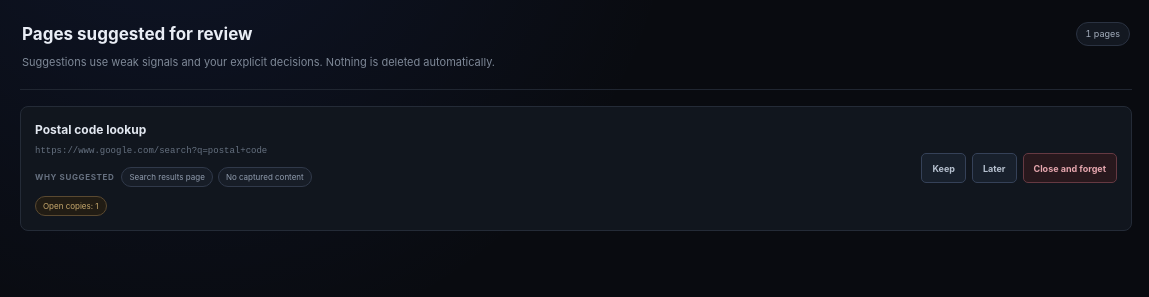
it: PageRetentionPanel › requires confirmation and reports a protected close failure
The image size is (1149, 297).
Check: the text "Open copies: 1" is shown, box [35,196,107,216]
What coordinates should you click on to do the following:
click the button with aria-label "Close and forget Postal code lookup"
I would click on:
 (1070, 168)
Its box is [1022,153,1117,183].
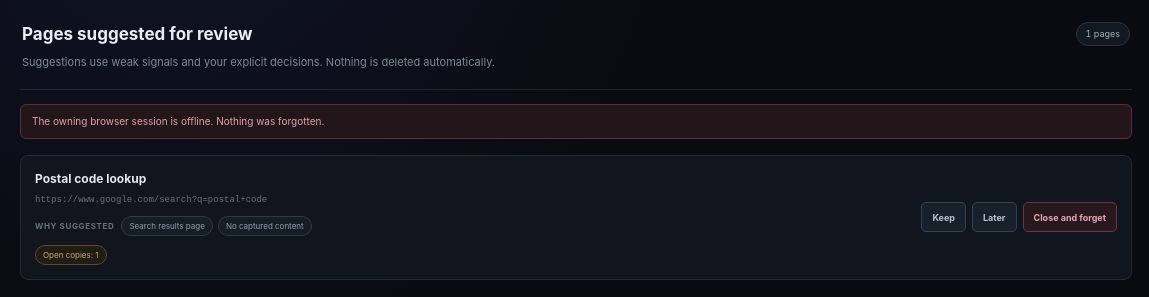
Check: the message "The owning browser session is offline. Nothing was forgotten." is shown, box [20,104,1132,138]
